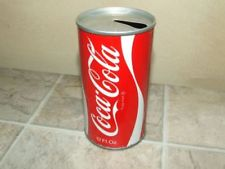can: (75, 5, 157, 151)
